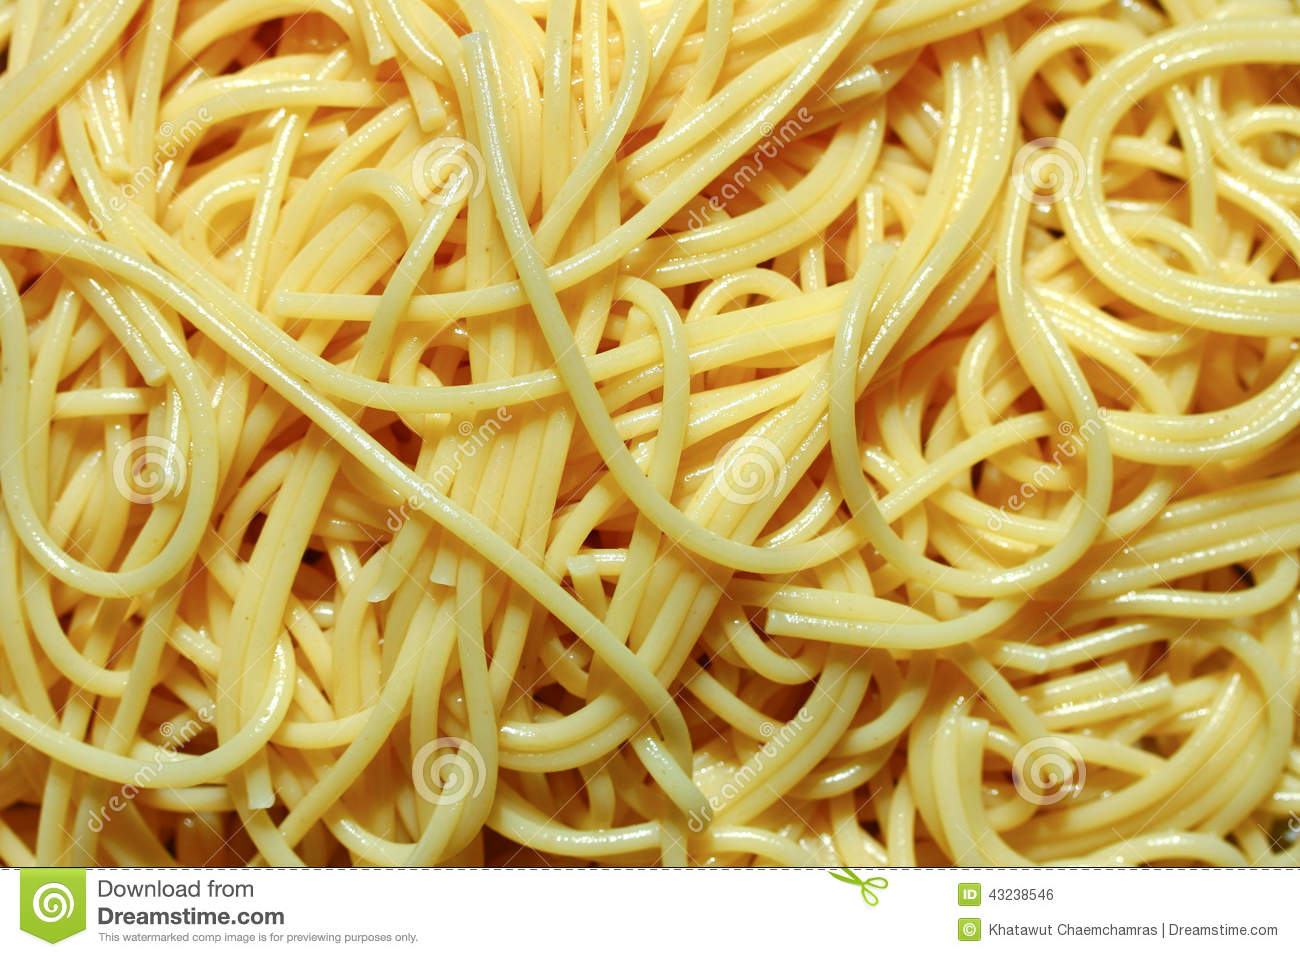plain spaghetti: (10, 10, 1276, 837)
